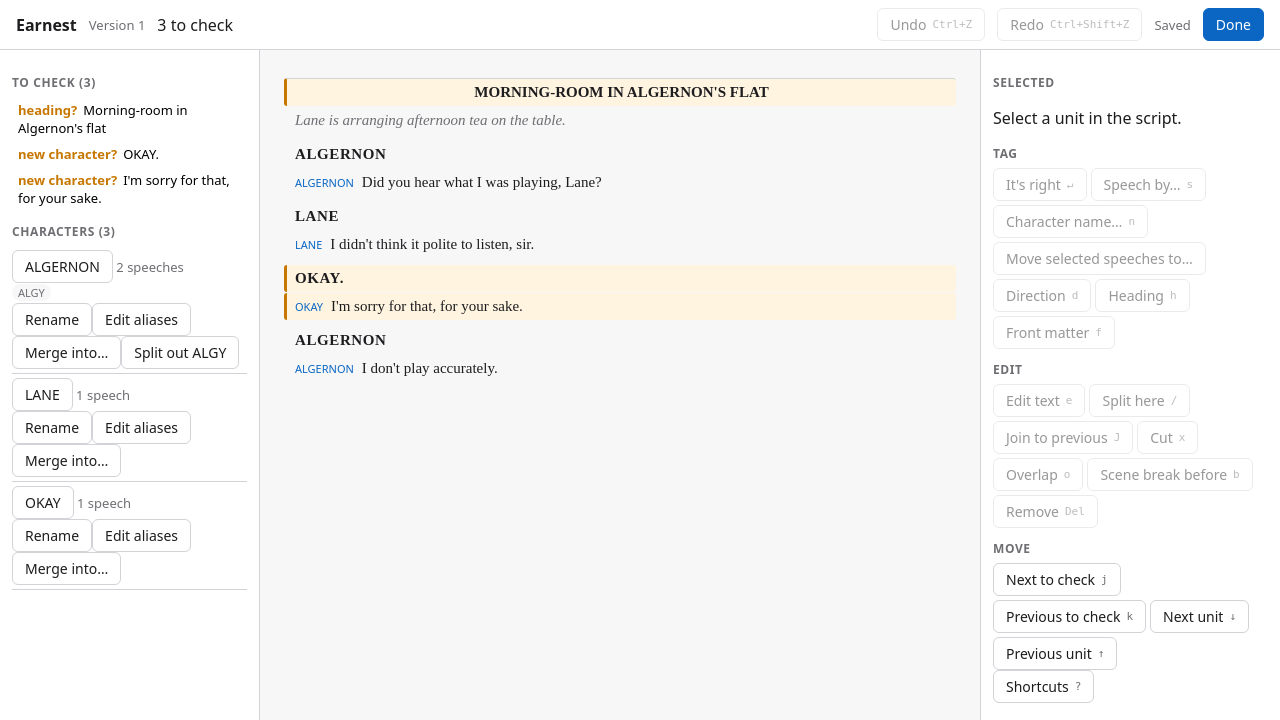
Test: Fix tags › confirms with It's right, and undoes and redoes
(page scrolled)
expect the list named "Script" is shown: met, box [284,78,956,376]
Type keys "j{Enter}"
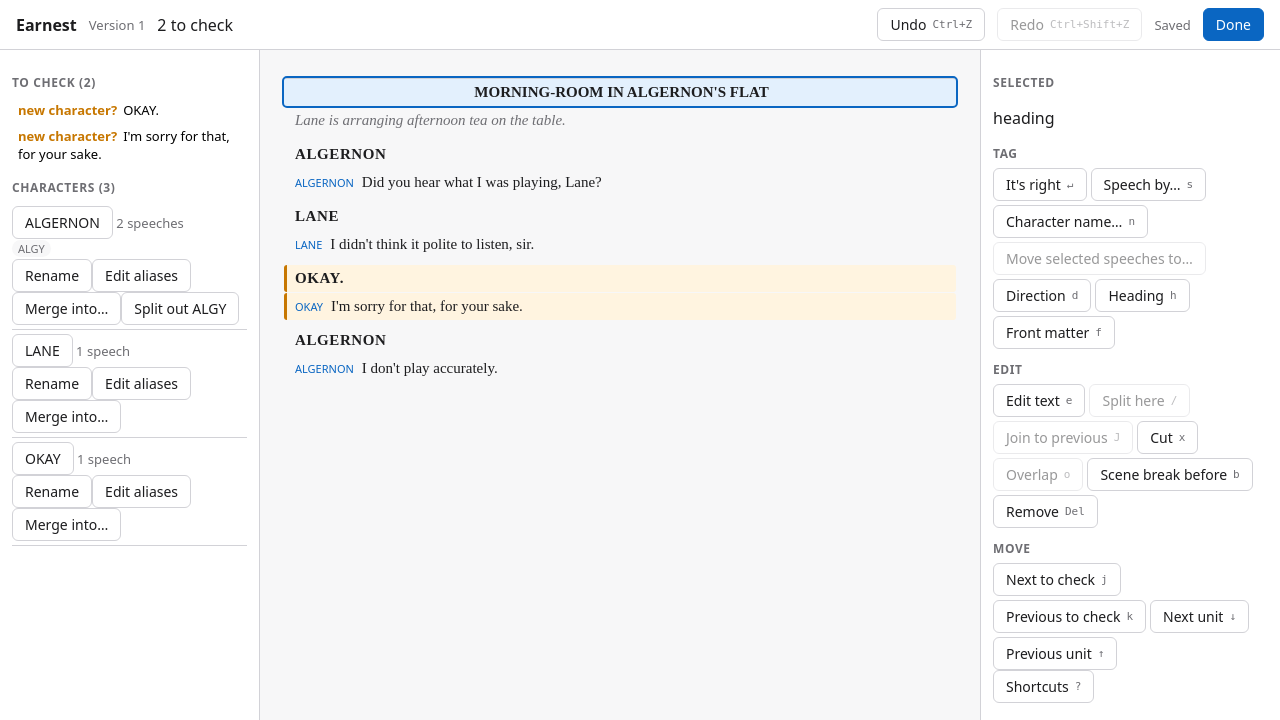
expect the heading "To check (2)" is shown: met, box [12,74,96,91]
Type keys "{Meta>}z{/Meta}"
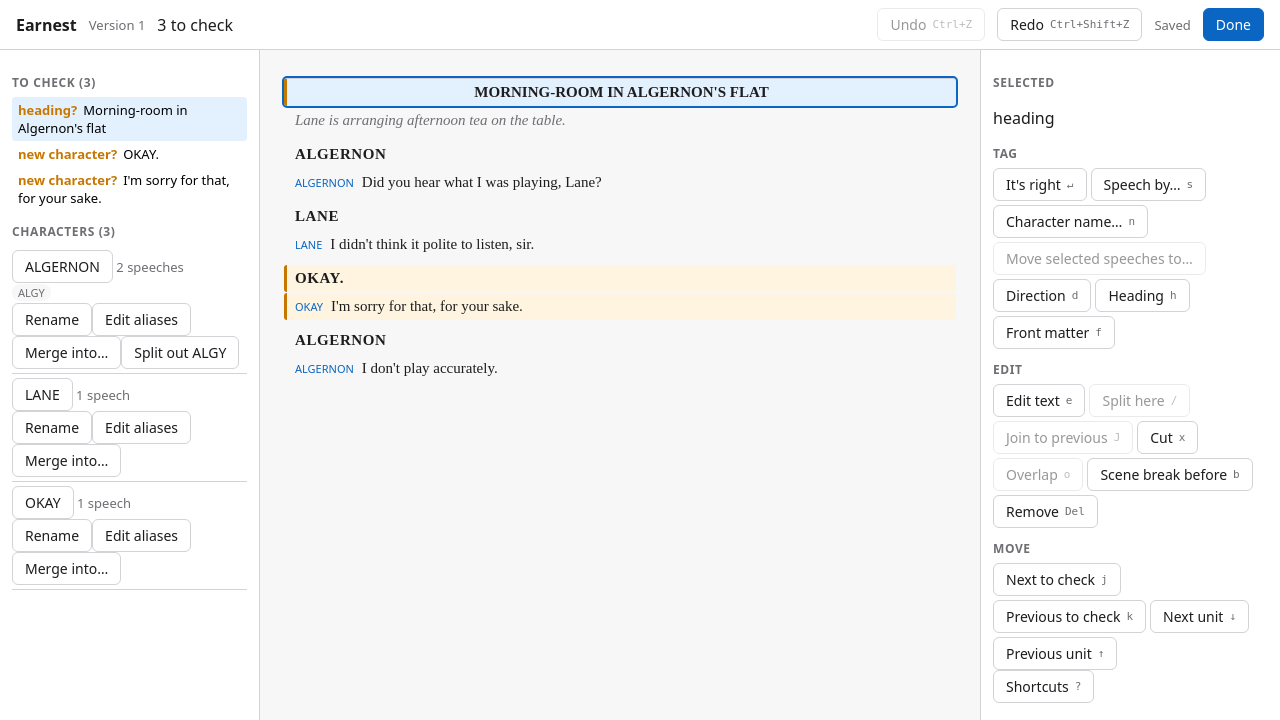
expect the heading "To check (3)" is shown: met, box [12,74,96,91]
Click the button "Redo Ctrl+Shift+Z".
click(1070, 24)  # box [997,8,1142,41]
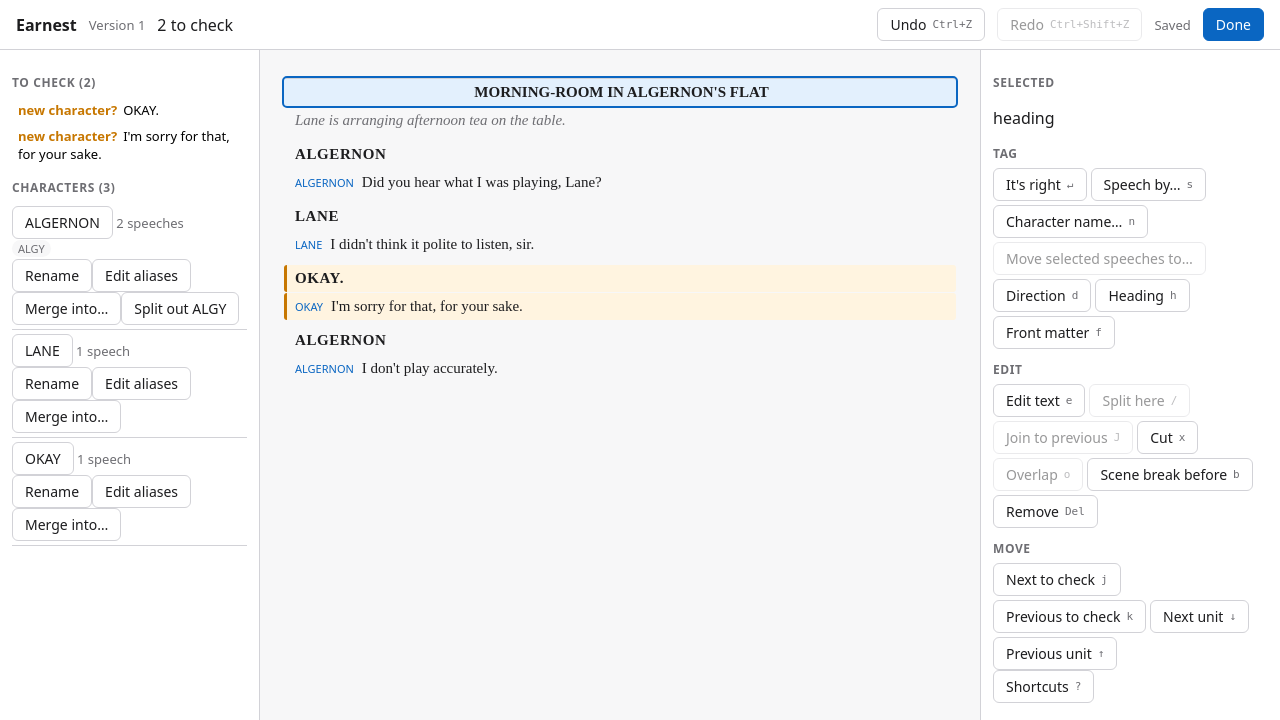
expect the heading "To check (2)" is shown: met, box [12,74,96,91]
